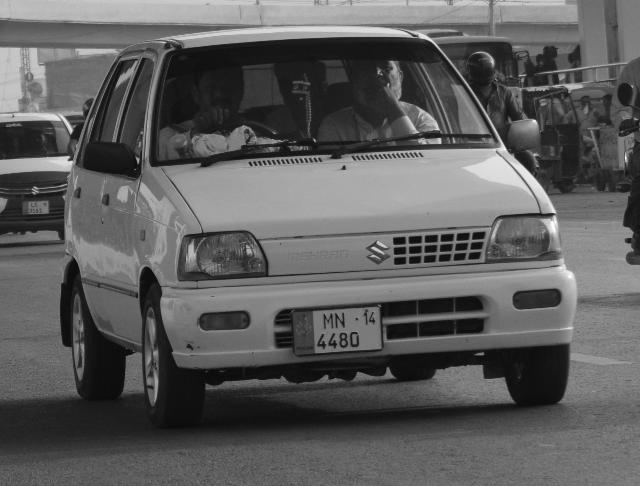Number: (317, 311, 363, 349), (27, 202, 49, 216)
